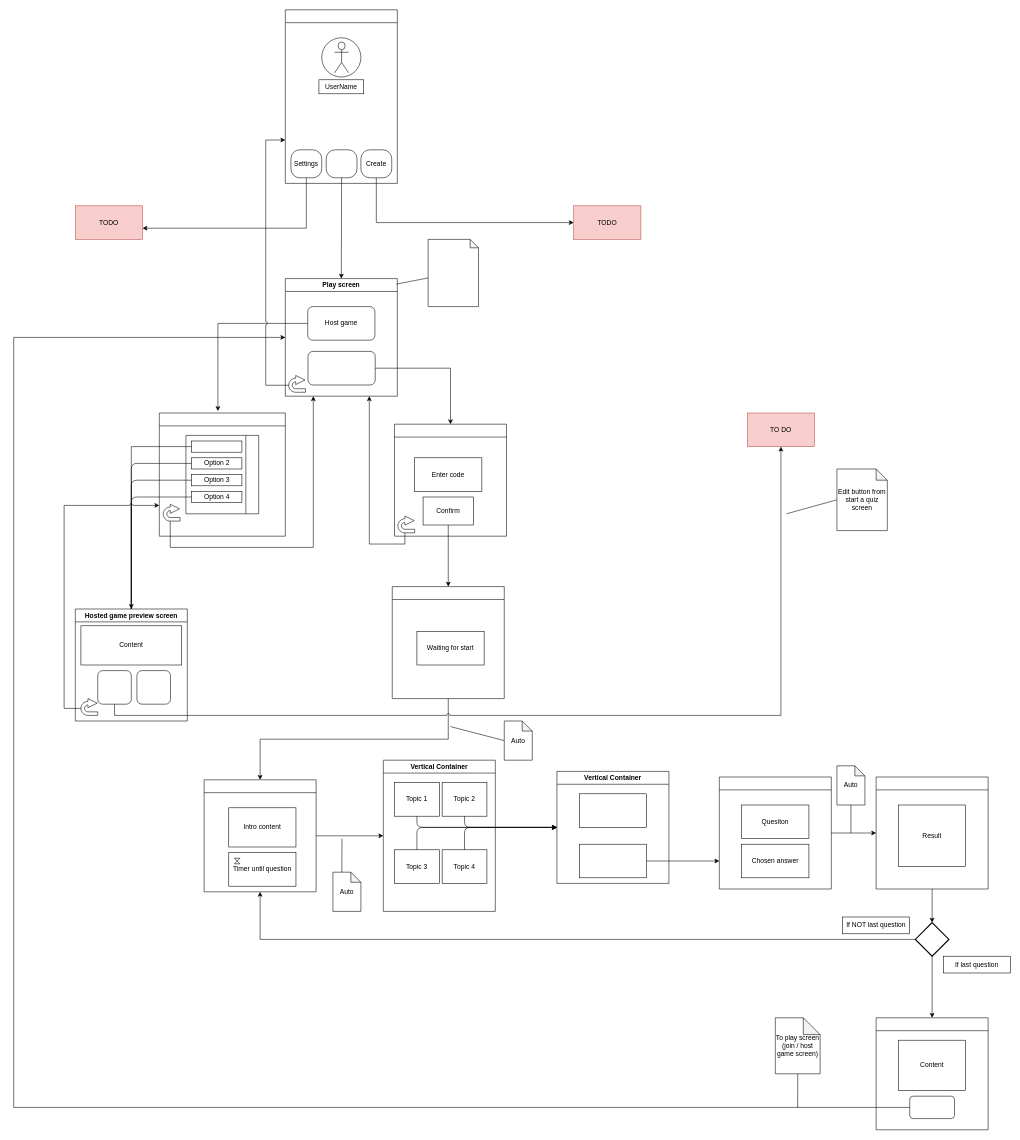
This 1020x1140 diagram has some shape labels left out. The box of each missing label's shape, as (x1, y1, x2, y2) in pixels:
Can be a pop-up in the Home screen: (428, 239, 479, 307)
Confirm / Start: (136, 670, 171, 704)
Edit: (97, 670, 131, 704)
Finnish: (909, 1096, 955, 1119)
Game screen 0: (392, 586, 504, 699)
Home screen: (285, 9, 397, 183)
Host game screen: (159, 412, 285, 536)
Join game: (307, 351, 375, 385)
Join game screen: (394, 424, 507, 536)
Option 1: (191, 440, 242, 452)
Overall result screen: (876, 1017, 988, 1130)
Play: (326, 149, 357, 178)
Possible answers: (579, 844, 647, 878)
Pre-result screen: (719, 776, 831, 889)
Question preview screen: (204, 779, 316, 892)
Question result screen: (876, 776, 988, 889)
Questoin content: (579, 793, 647, 827)
Scrollbar: (185, 435, 259, 514)
